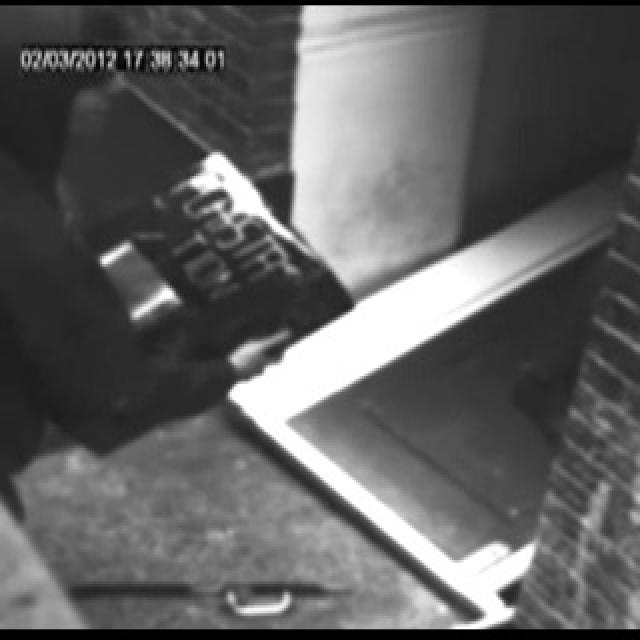thief: (0, 0, 132, 225)
